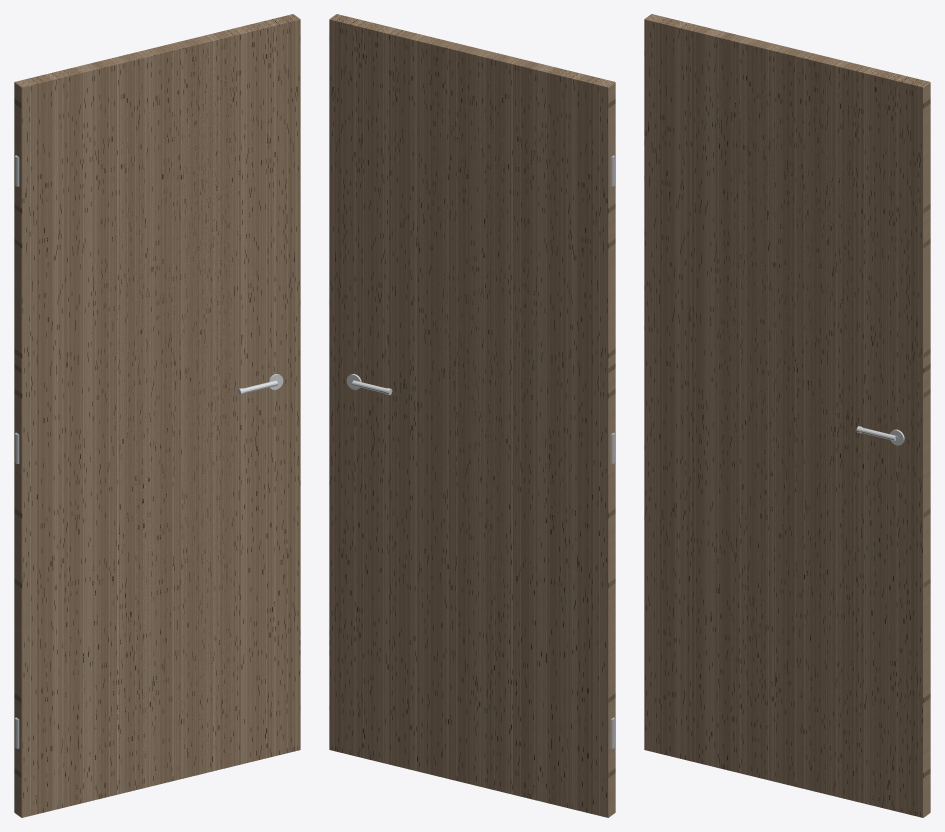
Rendered from standard-label-doors.glb.
3 renders of one model, left to right at view 1: azimuth 30°, elevation 25°; view 2: azimuth 150°, elevation 25°; view 3: azimuth 330°, elevation 25°, orthographic.
Parts seen in each view (by area): view 1: Slab_Leaf_DC, Slab_Leaf_PA, Slab_Leaf_PH, Slab_Leaf_TA, Slab_Leaf_LD; view 2: Slab_Leaf_DC, Slab_Leaf_LD, Slab_Leaf_PA, Slab_Leaf_TA, Slab_Leaf_PH; view 3: Slab_Leaf_TA, Slab_Leaf_DC, Slab_Leaf_LD, Slab_Leaf_PA, Slab_Leaf_PH.
Part boxes in pixels (box(x1,y1,x2,y2)): Slab_Leaf_DC: box(14, 14, 300, 817); Slab_Leaf_PA: box(22, 20, 300, 815); Slab_Leaf_PH: box(84, 32, 232, 796); Slab_Leaf_TA: box(15, 20, 300, 814); Slab_Leaf_LD: box(22, 19, 300, 817); Slab_Leaf_DC: box(329, 14, 615, 816); Slab_Leaf_LD: box(329, 16, 610, 817); Slab_Leaf_PA: box(329, 22, 607, 782); Slab_Leaf_TA: box(329, 19, 614, 816); Slab_Leaf_PH: box(397, 32, 546, 780); Slab_Leaf_TA: box(644, 16, 929, 817); Slab_Leaf_DC: box(644, 14, 930, 817); Slab_Leaf_LD: box(644, 19, 923, 817); Slab_Leaf_PA: box(644, 20, 923, 817); Slab_Leaf_PH: box(712, 31, 860, 799).
Size of the model in its own units: 0.787 by 1.95 by 0.07.
Materials: 4 (1 with a texture image).
